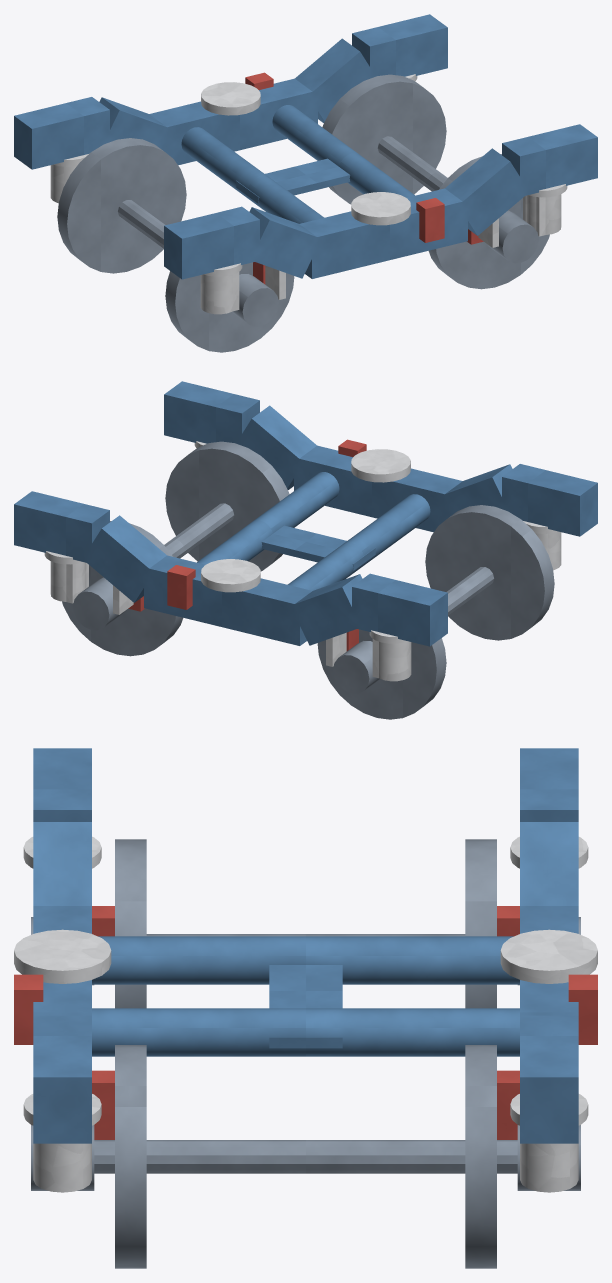
The model's file is bogie-frames.glb.
3 views of the same model, one above another, from view 1: azimuth 30°, elevation 25°; view 2: azimuth 150°, elevation 25°; view 3: azimuth 270°, elevation 25° (orthographic). The views are drawn at different scales.
Parts seen in each view (by area): view 1: SideFrames, Wheelsets&Axleboxes(context), Transoms, SpringSeats, Brake&DamperBrackets, AxleboxGuides; view 2: SideFrames, Wheelsets&Axleboxes(context), Transoms, SpringSeats, Brake&DamperBrackets, AxleboxGuides; view 3: Transoms, SideFrames, Wheelsets&Axleboxes(context), SpringSeats, Brake&DamperBrackets.
Part boxes in pixels (bbox=[...]): SideFrames: bbox=[14, 14, 597, 279]; Wheelsets&Axleboxes(context): bbox=[57, 74, 549, 352]; Transoms: bbox=[181, 105, 414, 223]; SpringSeats: bbox=[50, 74, 567, 314]; Brake&DamperBrackets: bbox=[245, 72, 483, 284]; AxleboxGuides: bbox=[233, 196, 545, 311]; SideFrames: bbox=[14, 381, 597, 646]; Wheelsets&Axleboxes(context): bbox=[62, 441, 554, 719]; Transoms: bbox=[197, 472, 430, 590]; SpringSeats: bbox=[44, 441, 561, 681]; Brake&DamperBrackets: bbox=[128, 439, 366, 651]; AxleboxGuides: bbox=[66, 563, 378, 678]; Transoms: bbox=[92, 936, 519, 1056]; SideFrames: bbox=[33, 748, 578, 1143]; Wheelsets&Axleboxes(context): bbox=[31, 839, 580, 1268]; SpringSeats: bbox=[14, 836, 597, 1192]; Brake&DamperBrackets: bbox=[14, 906, 597, 1139].
Size of the model in its own units: 3.2 by 1.1 by 2.4.
Materials: 4 (4 with a texture image).
